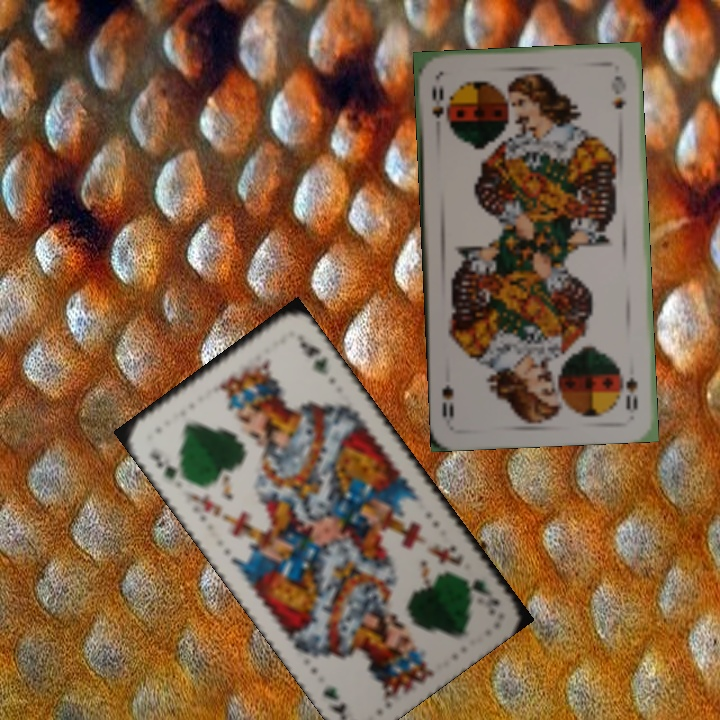GK: (458, 571, 503, 618), (145, 449, 189, 484)
SO: (427, 81, 450, 126), (622, 373, 641, 413)
